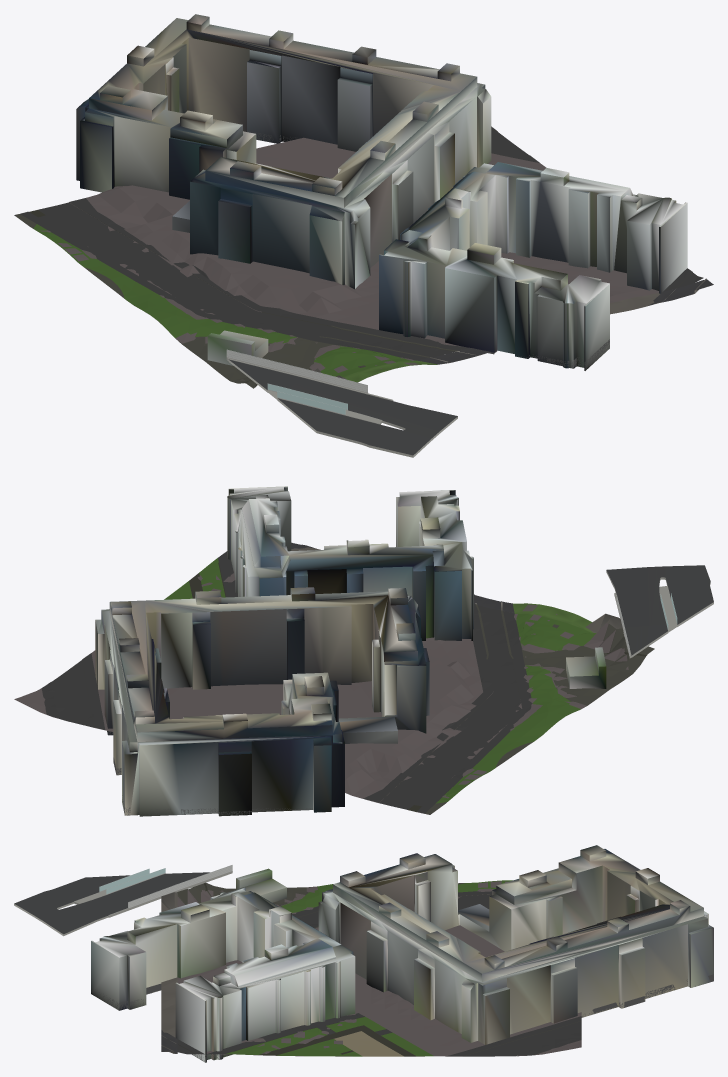
3 views of the same model, one above another, from view 1: azimuth 30°, elevation 25°; view 2: azimuth 150°, elevation 25°; view 3: azimuth 270°, elevation 25° (orthographic). The views are drawn at different scales.
Visible parts, largest first — view 1: c_m13_p05; view 2: c_m13_p05; view 3: c_m13_p05.
Boxes of the visible parts, x1,y1,x2,y2 form: c_m13_p05: (14,14,713,457); c_m13_p05: (14,486,713,816); c_m13_p05: (14,845,713,1062).
Bounding box in the file's own units: 128 × 27.82 × 213.
